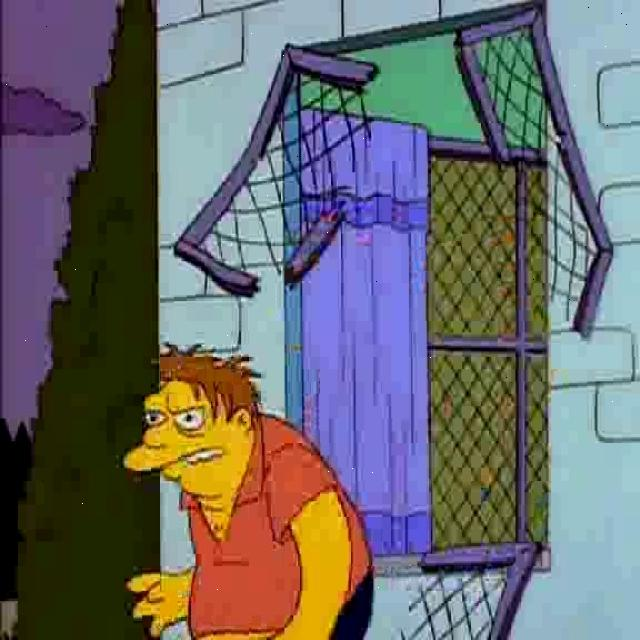Barney Gumble: (119, 341, 265, 527)
